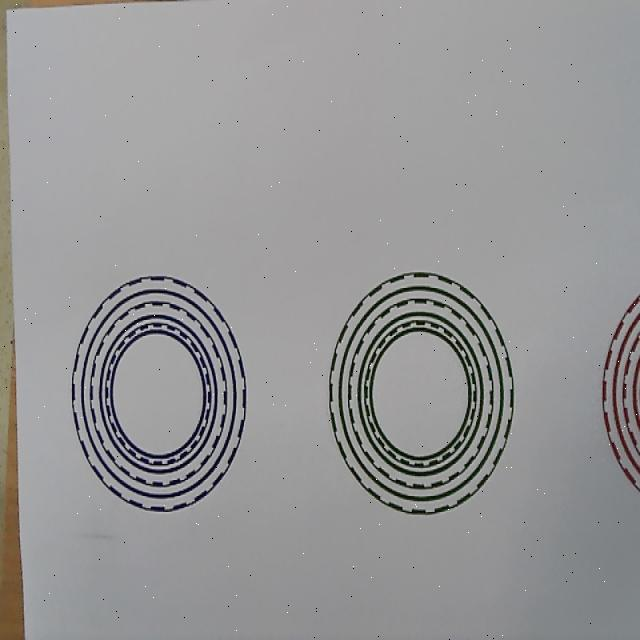b: (70, 276, 247, 513)
g: (328, 272, 515, 516)
